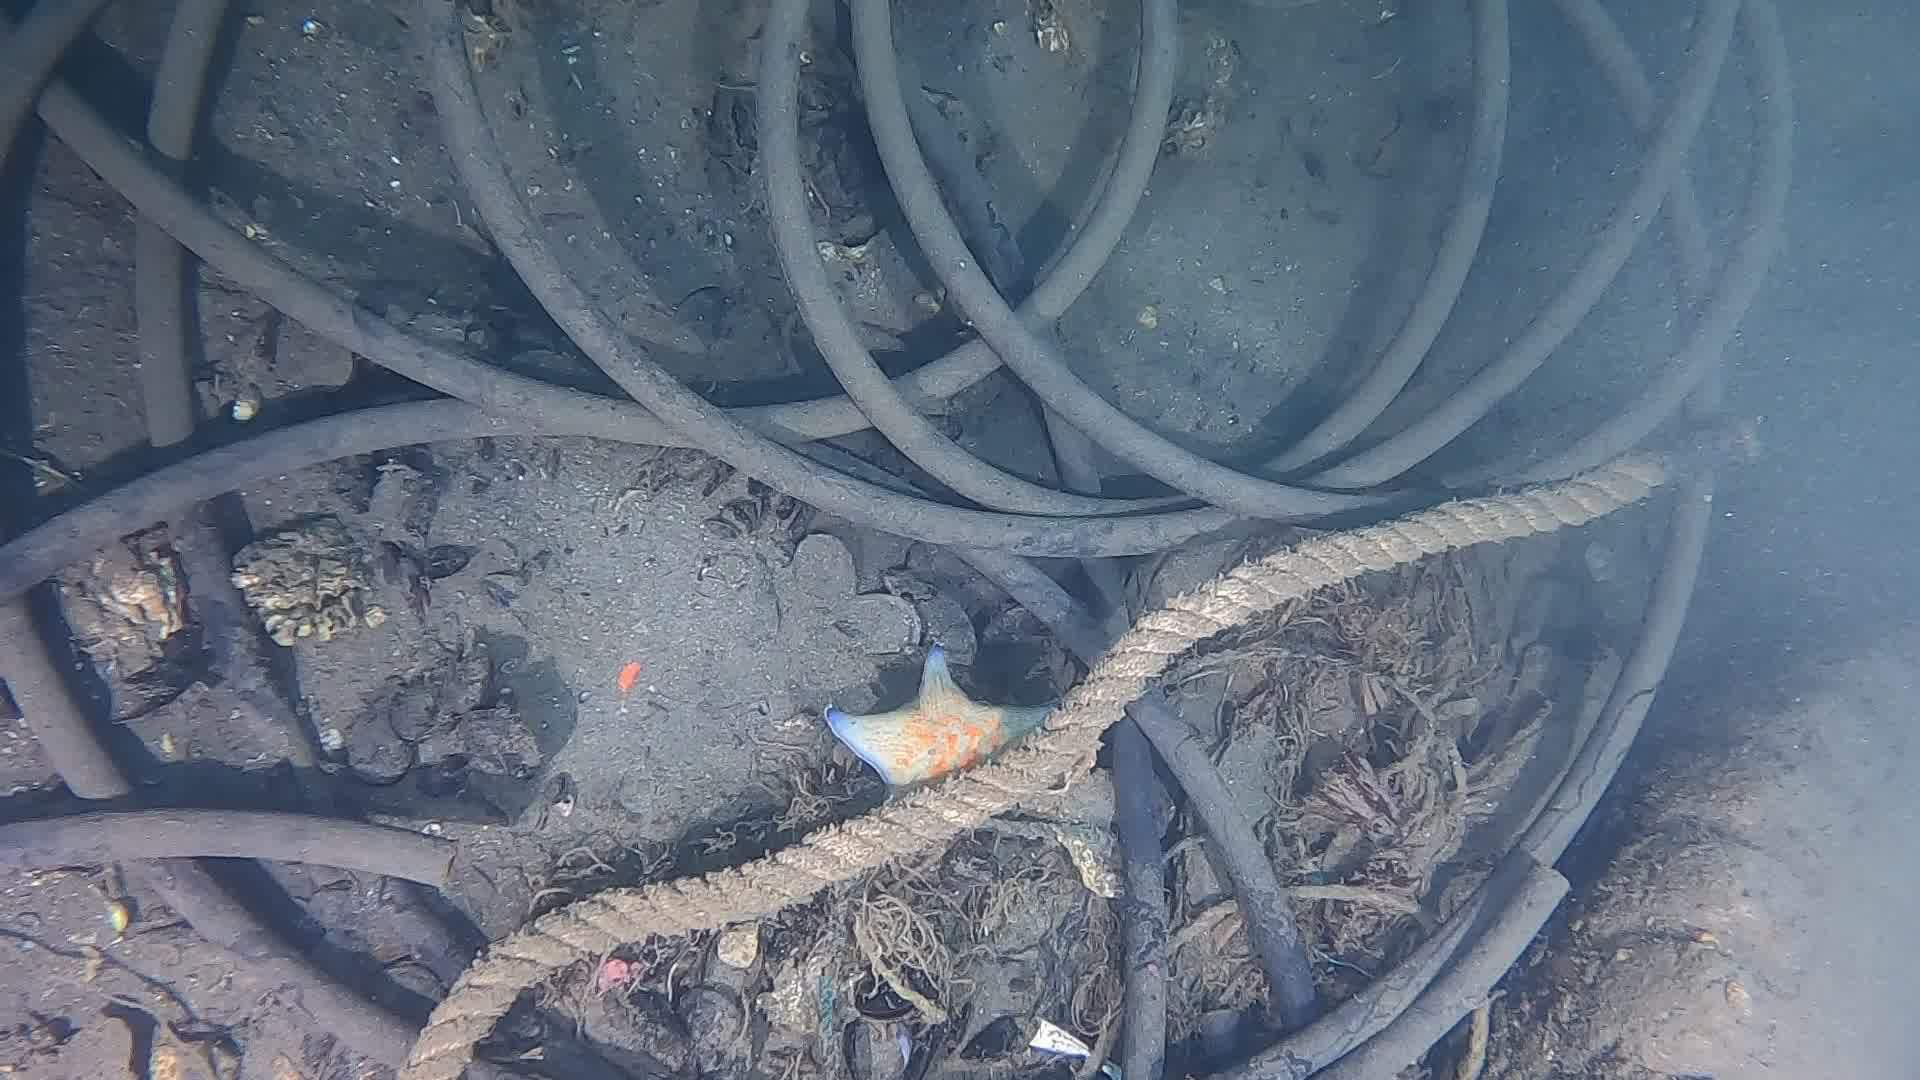rope: (396, 410, 1779, 1080)
